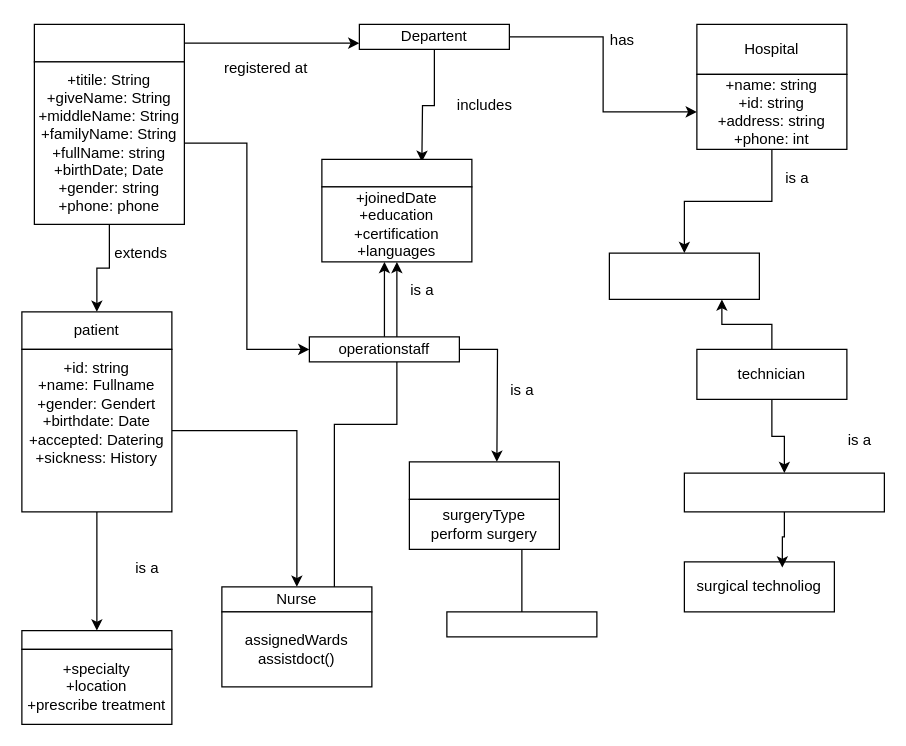
Image size: 906x746. Some labels were removed from this diagram. Here are the shapes that lost their labels. From the top down, the centre of each, then its label:
(x=108, y=42): person
(x=396, y=172): staff
(x=683, y=275): Actiministrative staff
(x=483, y=480): surgeon
(x=783, y=492): technologist
(x=96, y=639): Doctor
(x=521, y=624): receptionist
